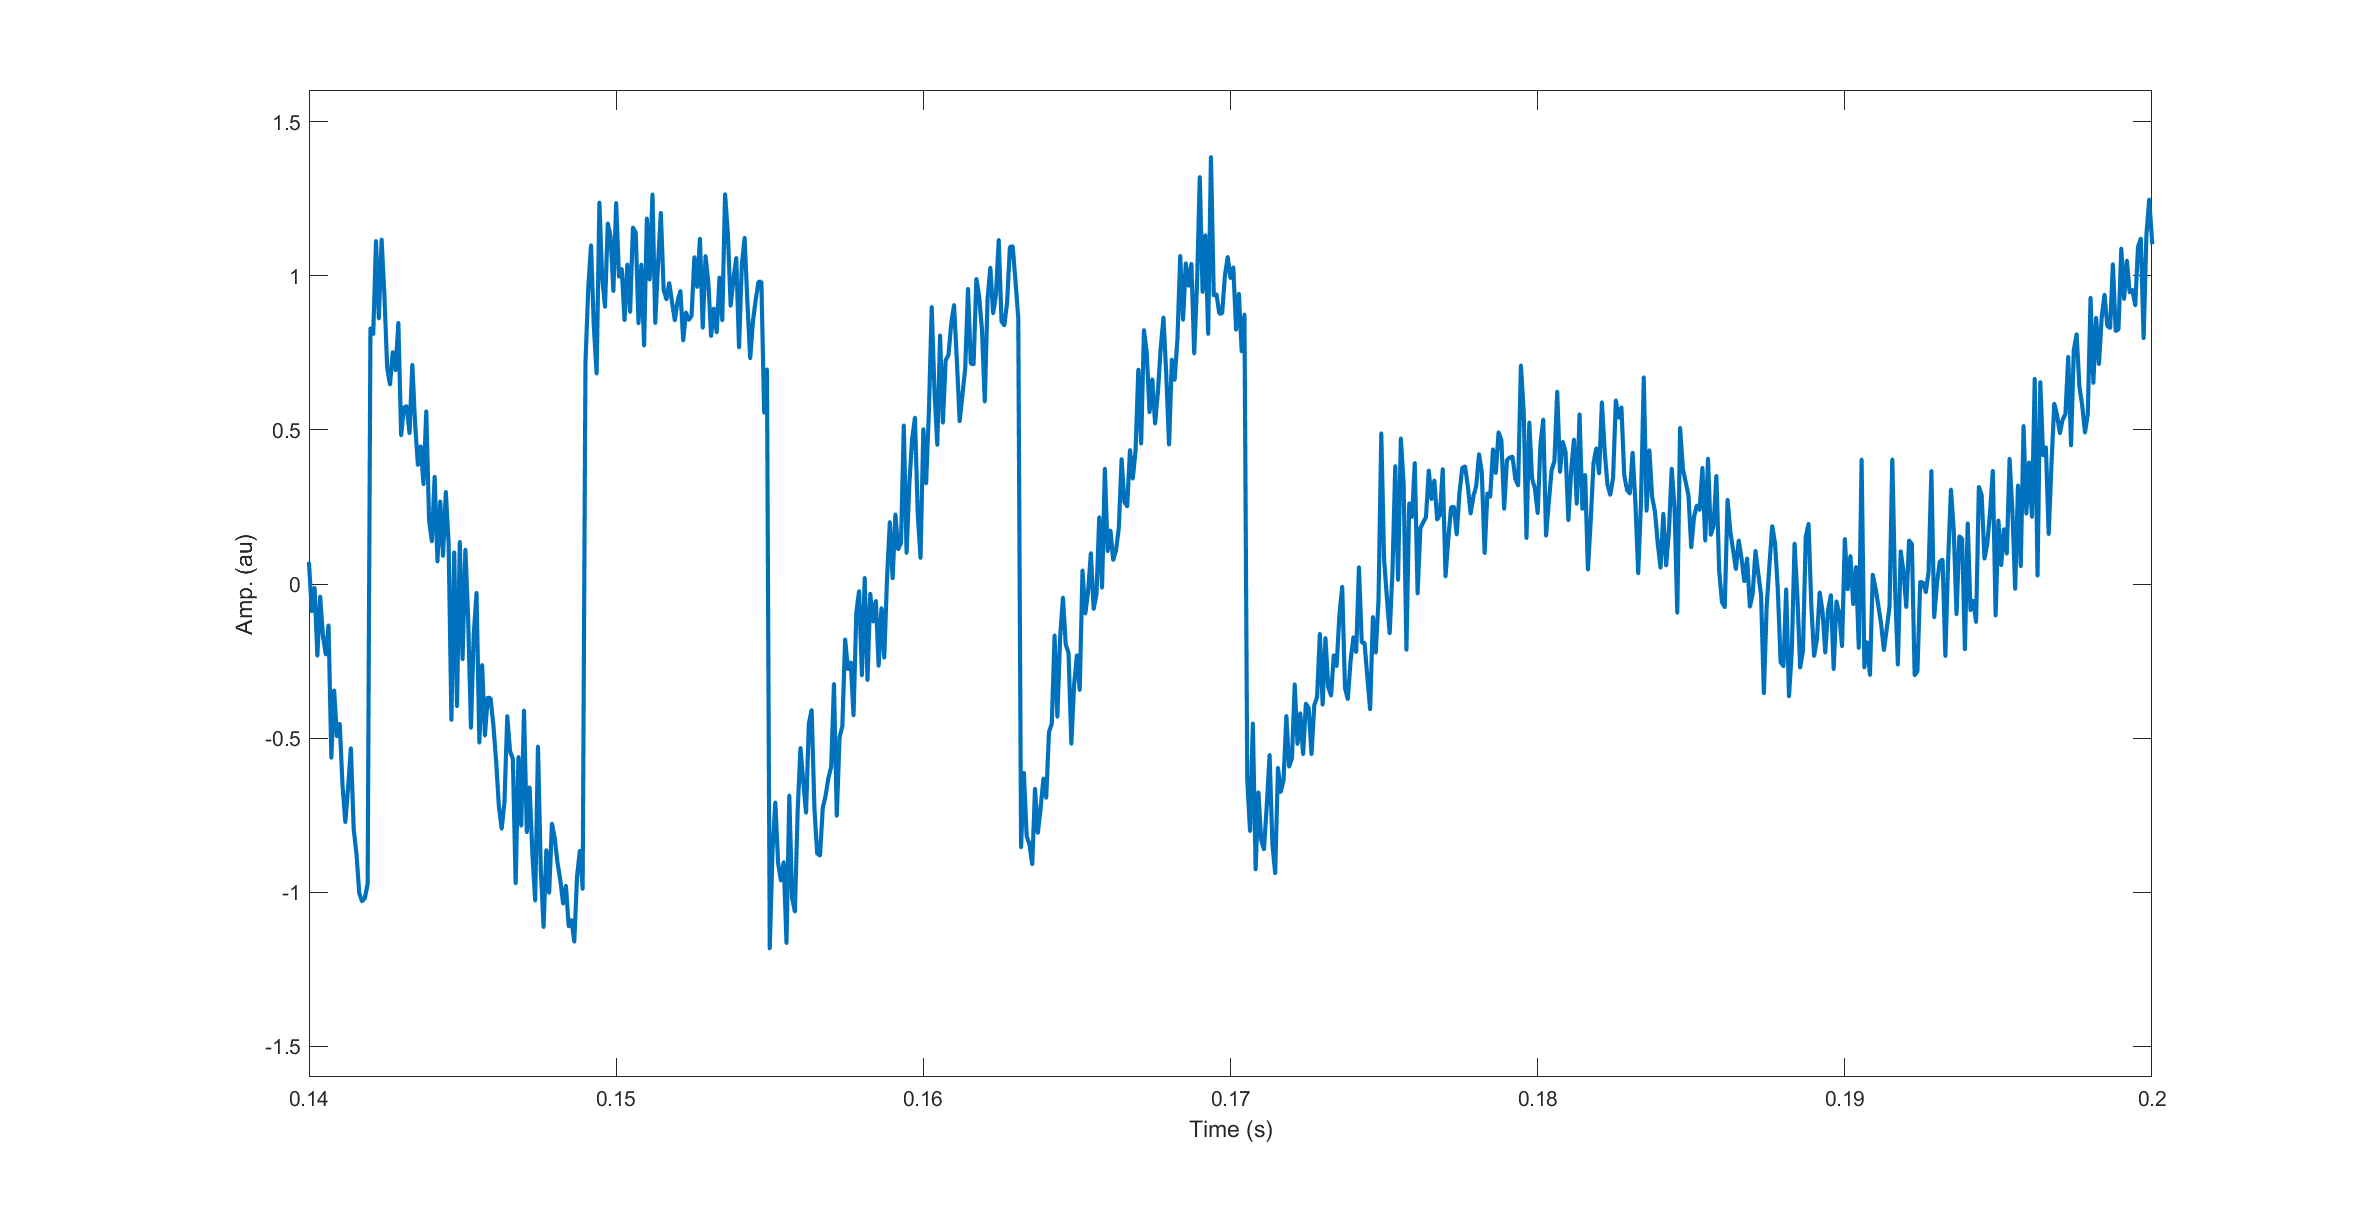negative_fringe: (356, 218, 526, 894)
positive_fringe: (789, 218, 1032, 880), (1054, 136, 1261, 867)
